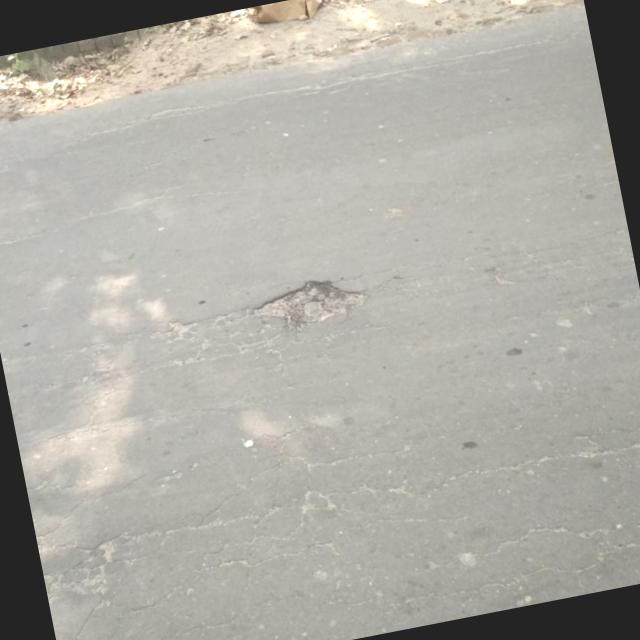Lubang: (254, 281, 364, 328)
